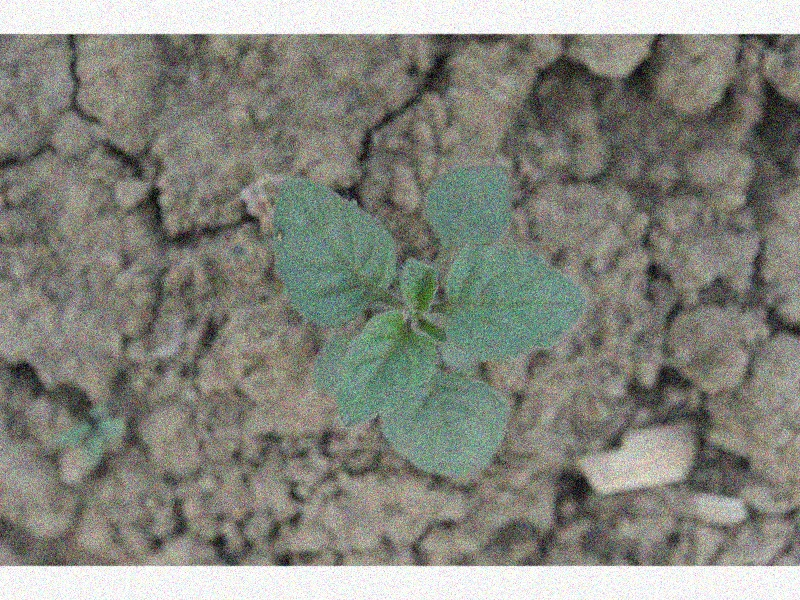nightshade: (271, 161, 584, 484)
